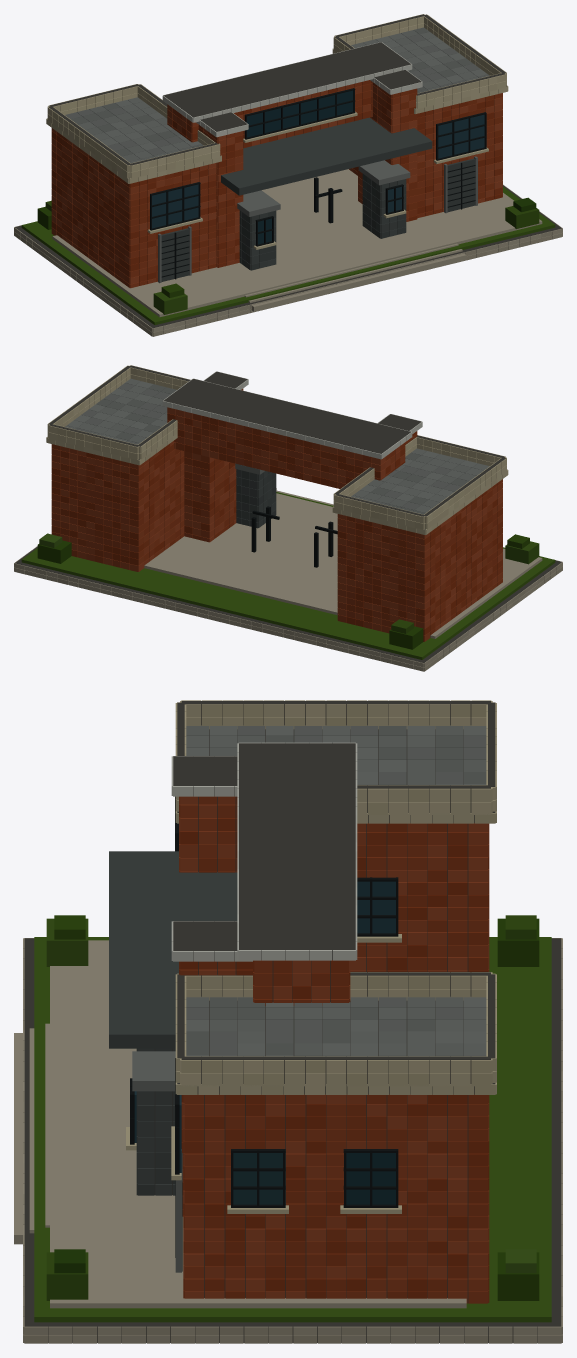
The model's file is SM_Mapa_058.fbx.
3 renders of one model, top to bottom at view 1: azimuth 30°, elevation 25°; view 2: azimuth 150°, elevation 25°; view 3: azimuth 270°, elevation 25°, orthographic. The views are drawn at different scales.
Parts seen in each view (by area): view 1: SM_Mapa_058; view 2: SM_Mapa_058; view 3: SM_Mapa_058.
Part boxes in pixels (<box>): SM_Mapa_058: <box>14,14,562,336</box>; SM_Mapa_058: <box>14,365,562,671</box>; SM_Mapa_058: <box>14,700,562,1343</box>.
Size of the model in its own units: 32 by 19.06 by 11.58.
